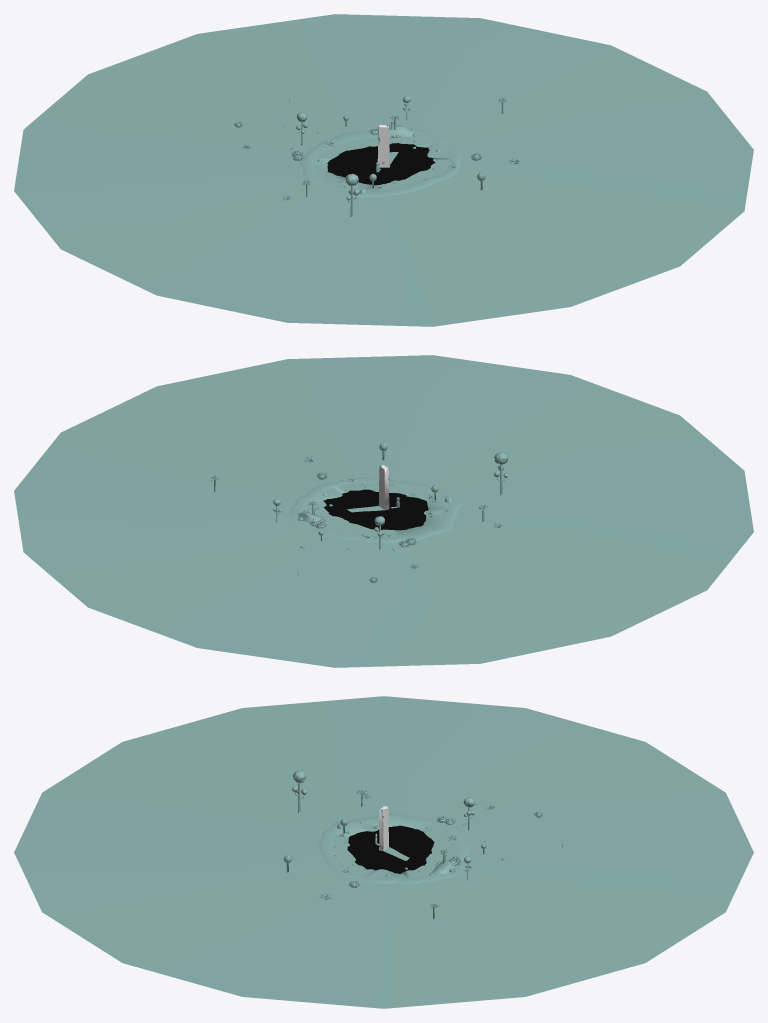
Rendered from swamp.glb.
3 renders of one model, top to bottom at view 1: azimuth 30°, elevation 25°; view 2: azimuth 150°, elevation 25°; view 3: azimuth 270°, elevation 25°, orthographic.
Parts seen in each view (by area): view 1: LAND, WATER, LINES, Tree1_@outlineOnly; view 2: LAND, WATER, LINES, Tree1_@outlineOnly, grassBush2_@outlineOnly; view 3: LAND, WATER, LINES, Tree1_@outlineOnly.
Part boxes in pixels (x1,y1,x2,y2): LAND: (14,14,753,326); WATER: (327,143,435,185); LINES: (300,124,462,197); Tree1_@outlineOnly: (296,96,410,216); LAND: (14,355,753,667); WATER: (323,489,429,530); LINES: (288,477,462,543); Tree1_@outlineOnly: (273,452,508,549); grassBush2_@outlineOnly: (297,472,447,582); LAND: (14,696,753,1008); WATER: (347,825,434,873); LINES: (318,814,470,883); Tree1_@outlineOnly: (292,770,474,880).
Size of the model in its own units: 79.75 by 5.63 by 79.75.
4 materials, 4 textured.
